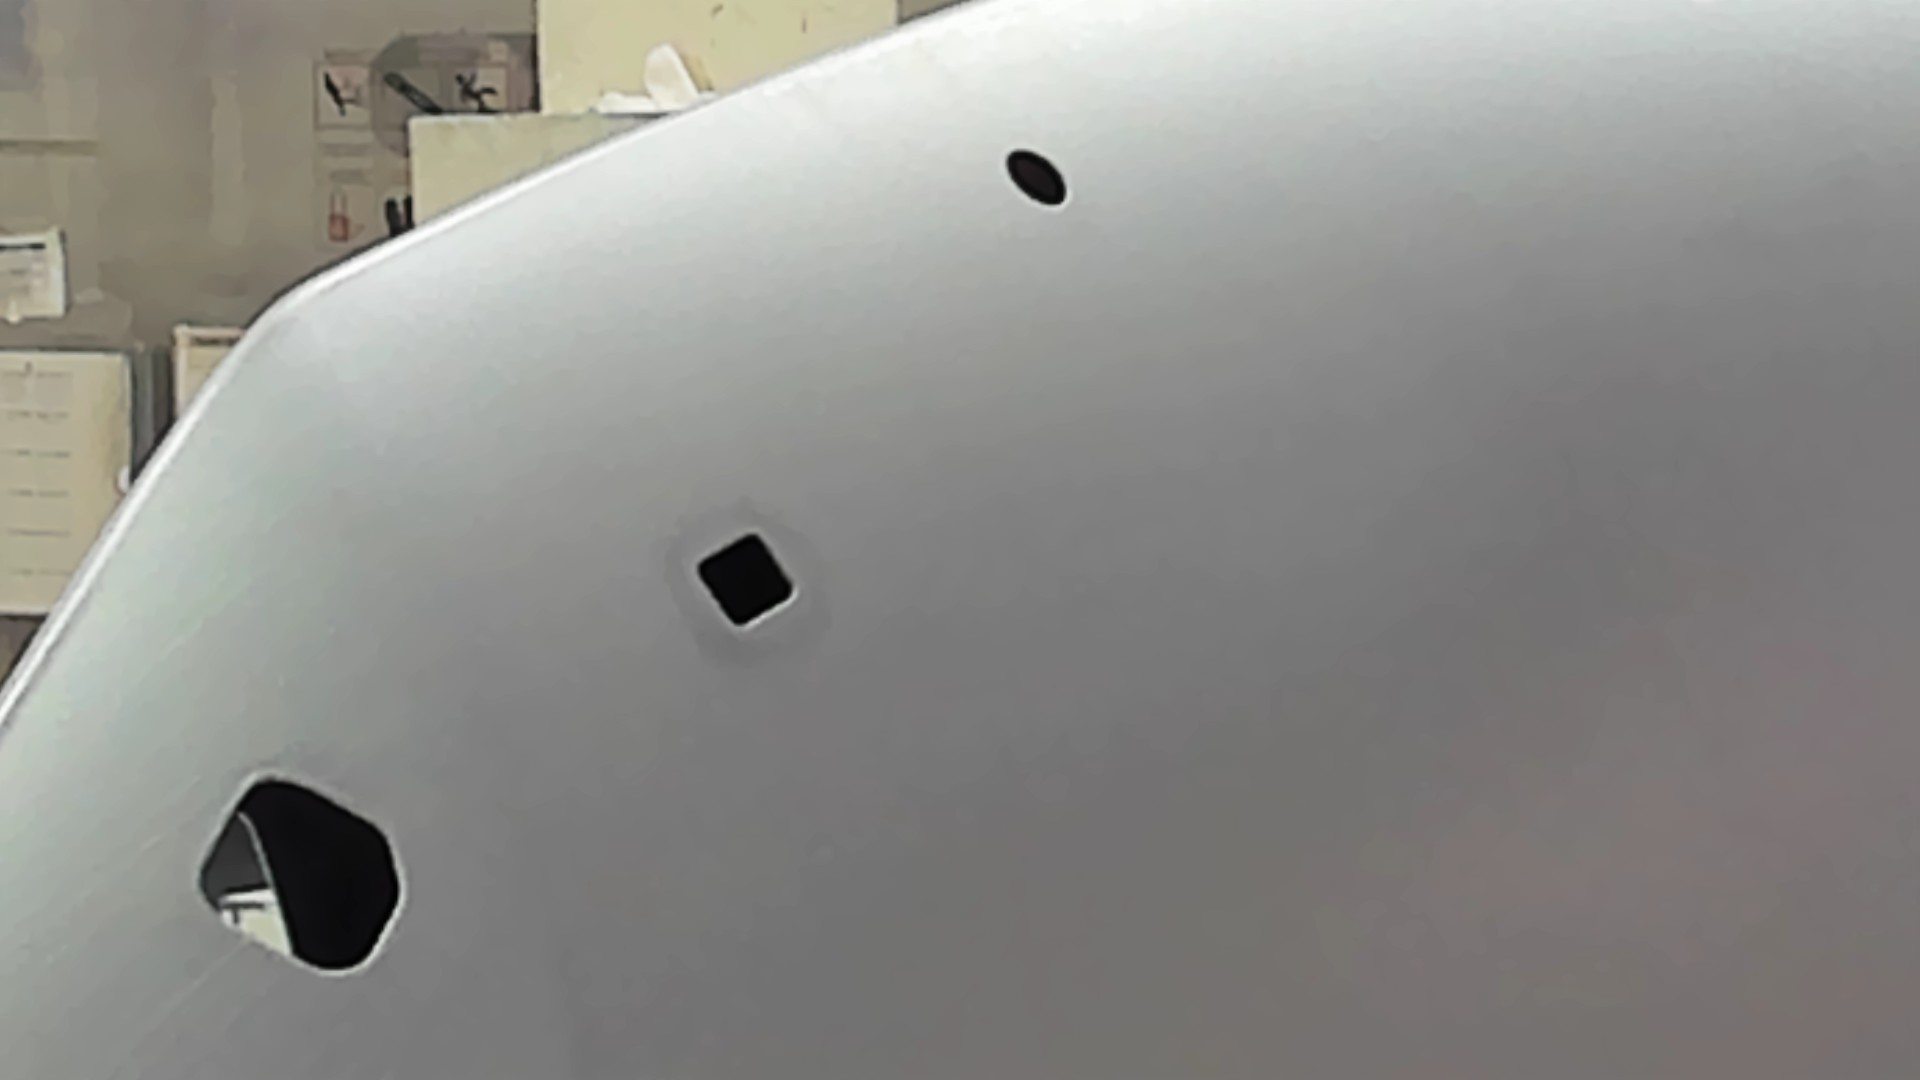chico: (1002, 145, 1071, 210)
grande: (191, 767, 414, 985)
mediano: (692, 527, 800, 634)
